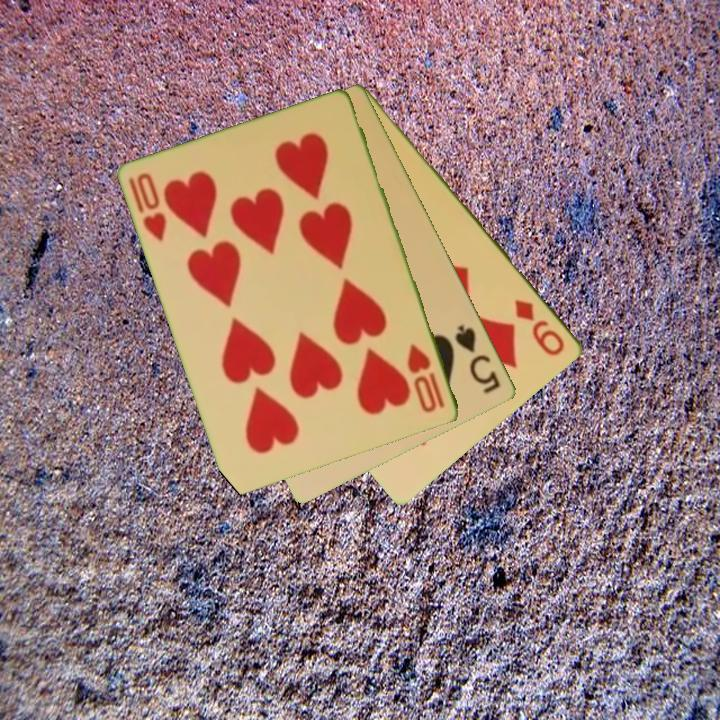10h: (125, 169, 170, 245), (404, 341, 448, 416)
5s: (451, 321, 504, 397)
9d: (511, 296, 568, 359)
